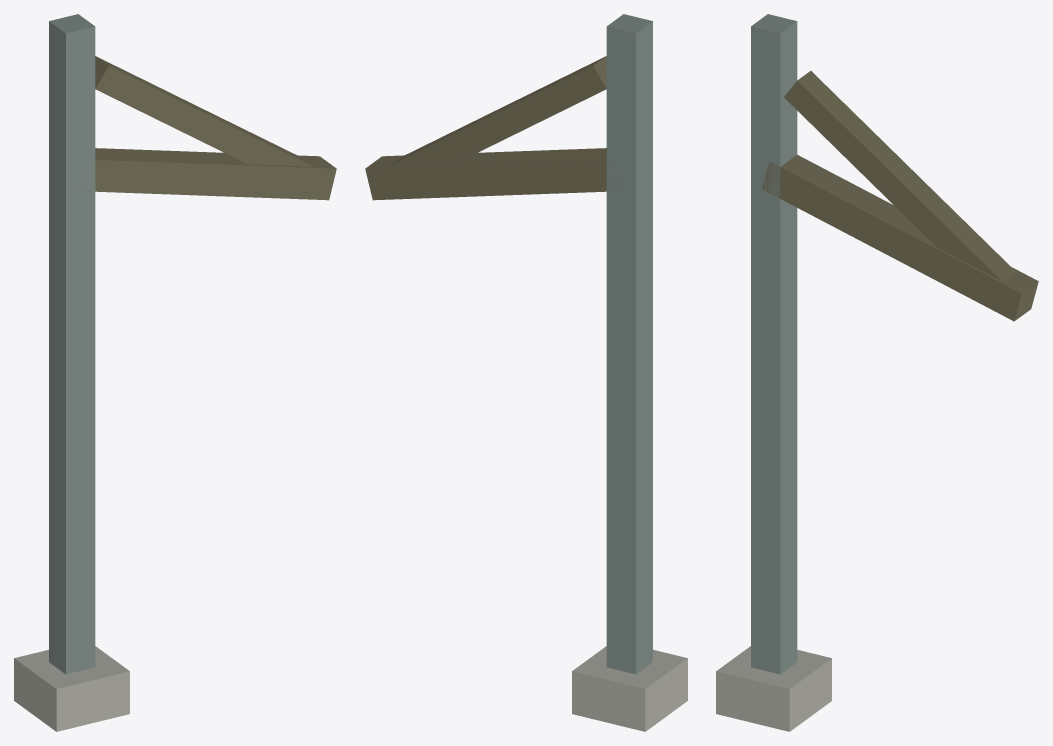
File: SM_poste_catenaria_v2_LOD1.fbx
3 renders of one model, left to right at view 1: azimuth 30°, elevation 25°; view 2: azimuth 150°, elevation 25°; view 3: azimuth 330°, elevation 25°, orthographic.
Parts seen in each view (by area): view 1: SM_bloques.poste_catenaria_v2_LOD1; view 2: SM_bloques.poste_catenaria_v2_LOD1; view 3: SM_bloques.poste_catenaria_v2_LOD1.
Part boxes in pixels (<box>): SM_bloques.poste_catenaria_v2_LOD1: <box>14,14,336,731</box>; SM_bloques.poste_catenaria_v2_LOD1: <box>365,14,687,731</box>; SM_bloques.poste_catenaria_v2_LOD1: <box>716,14,1038,731</box>.
Bounding box in the file's own units: 3.59 × 8 × 0.9.
